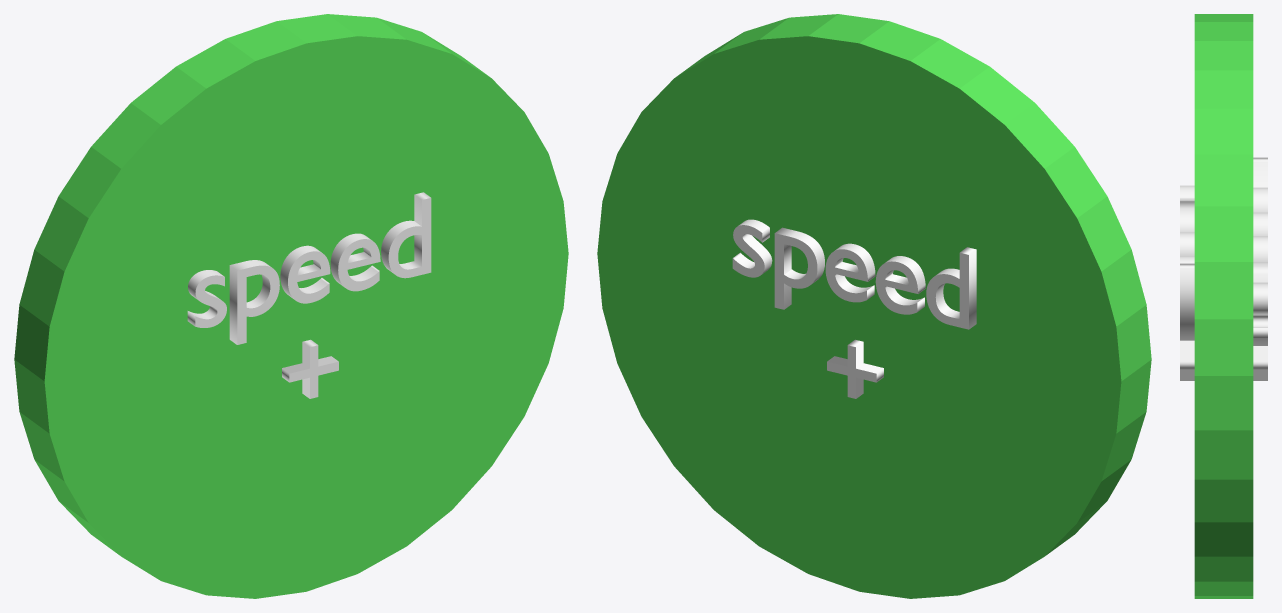
File: speed_plus.glb
3 renders of one model, left to right at view 1: azimuth 30°, elevation 25°; view 2: azimuth 150°, elevation 25°; view 3: azimuth 270°, elevation 25°, orthographic. The views are drawn at different scales.
Parts seen in each view (by area): view 1: Coin_speed_Plus; view 2: Coin_speed_Plus; view 3: Coin_speed_Plus.
Boxes of the visible parts, x1=… form: Coin_speed_Plus: x1=14, y1=14, x2=568, y2=598; Coin_speed_Plus: x1=597, y1=14, x2=1151, y2=598; Coin_speed_Plus: x1=1180, y1=14, x2=1267, y2=598.
Bounding box in the file's own units: 2 × 2 × 0.3.
